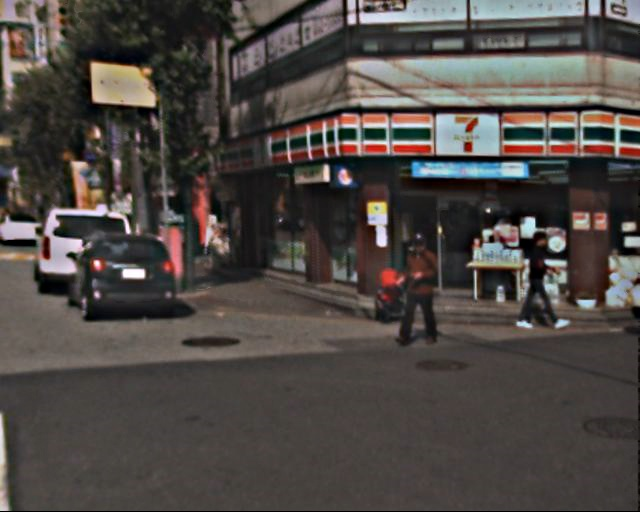person: (395, 230, 455, 346), (516, 228, 564, 333)
